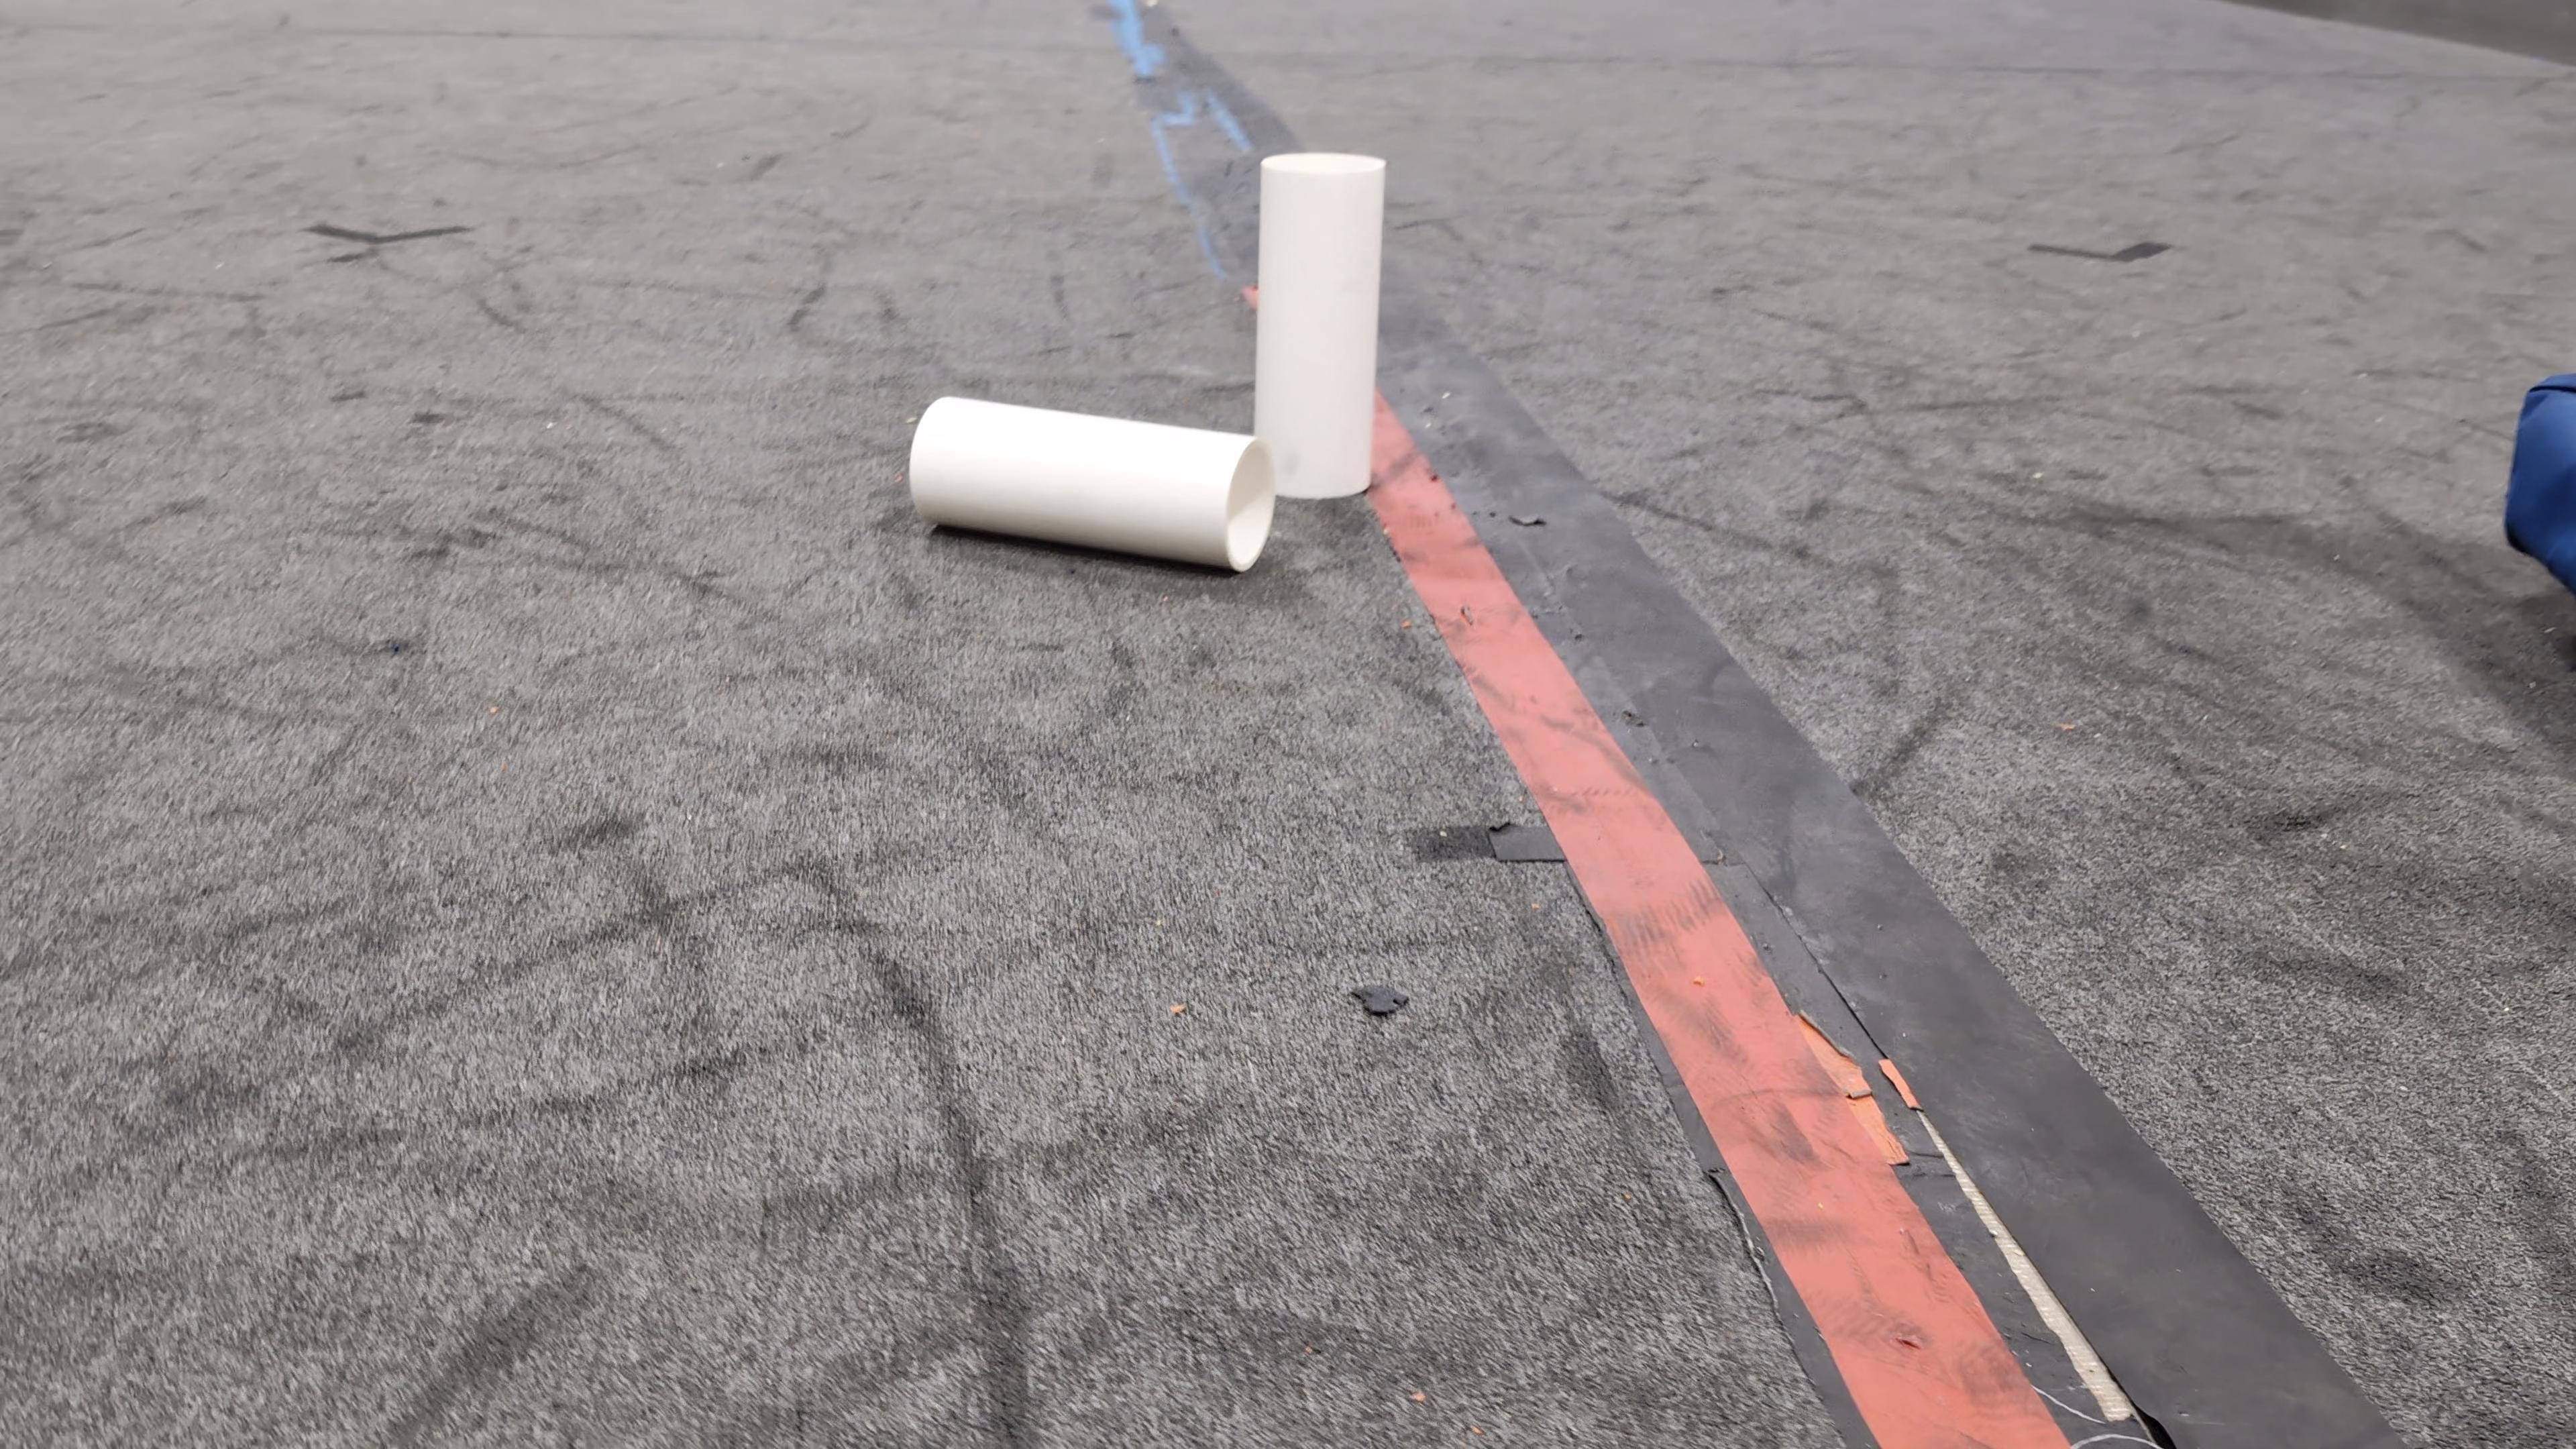coral: (908, 391, 1279, 571), (1247, 145, 1391, 502)
